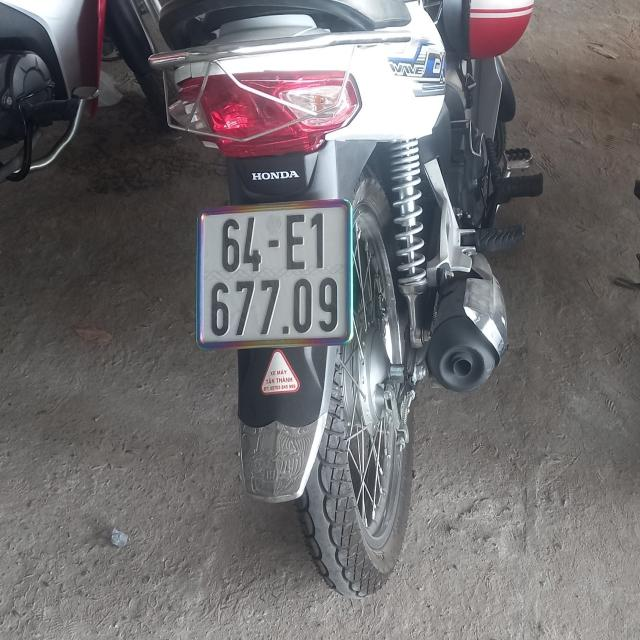0: (294, 278, 312, 334)
1: (311, 212, 323, 269)
4: (244, 218, 262, 274)
6: (221, 219, 240, 272), (212, 281, 229, 336)
7: (235, 280, 255, 334), (261, 280, 280, 335)
9: (320, 278, 338, 332)
E: (286, 214, 306, 270)
